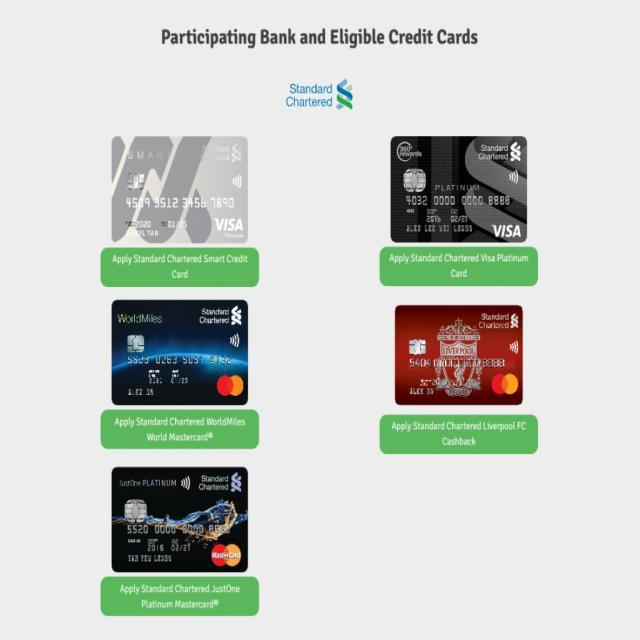Standard Chartered: (286, 77, 352, 110), (199, 471, 242, 492), (200, 143, 242, 163), (478, 142, 520, 162), (200, 305, 242, 325), (479, 312, 519, 328)
